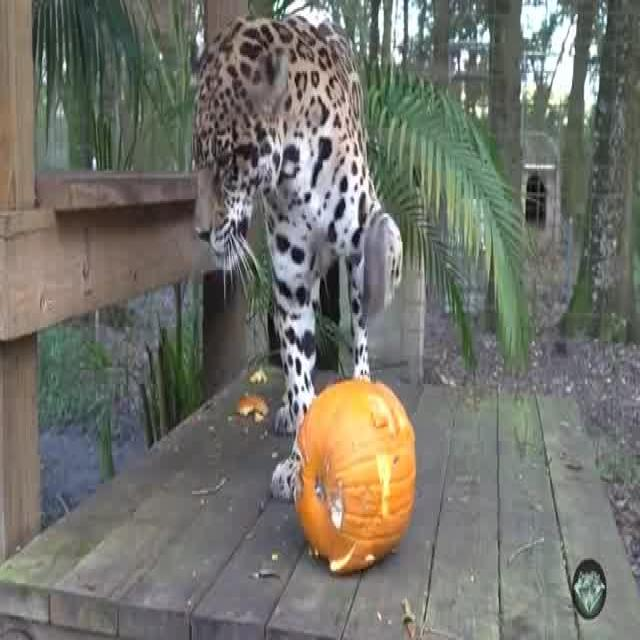Jaguar: (192, 7, 406, 501)
